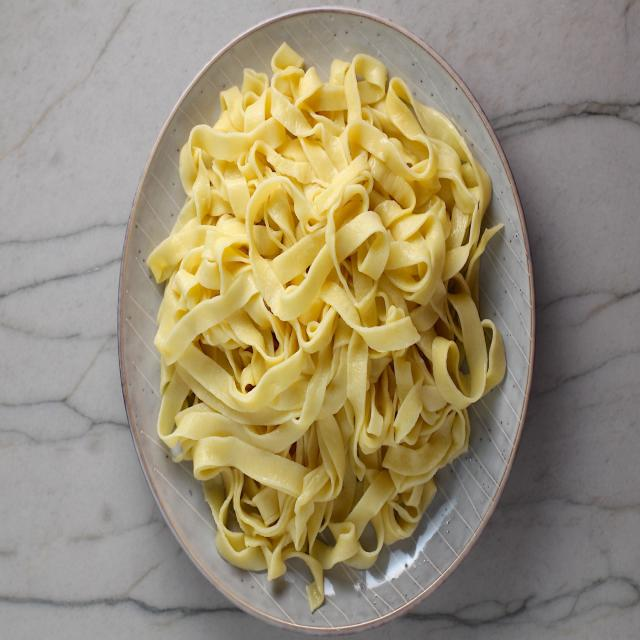pasta: (138, 43, 516, 612)
